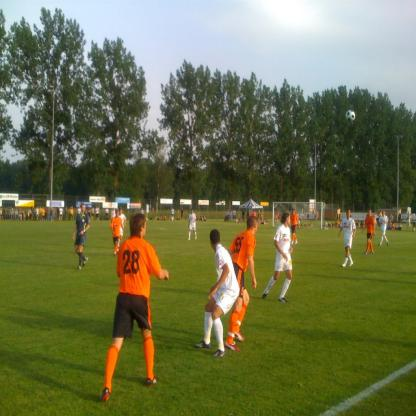Ball: (346, 108, 356, 122)
